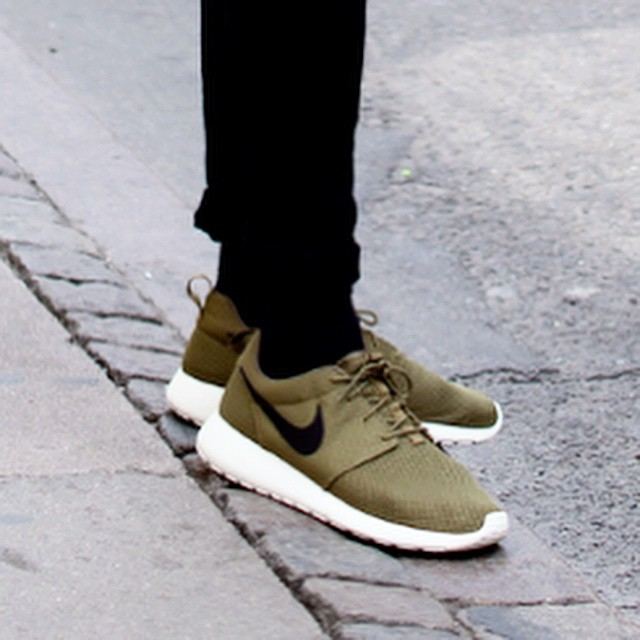sneaker: (176, 304, 525, 577), (140, 264, 518, 460)
